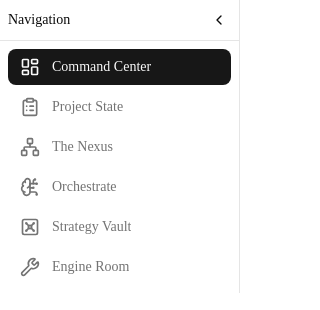
Scenario: AppSidebar › collapse behavior › should collapse when toggle button is clicked
The image size is (320, 310).
Click the button named "Collapse Sidebar": {"x": 219, "y": 20} 207,8 -> 231,32
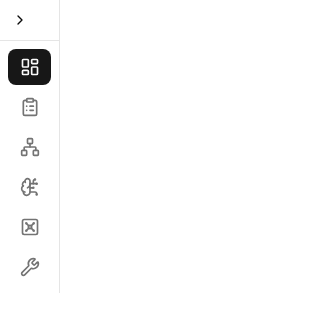
Expected: the text "Navigation" is gone
Expected: the text "Command Center" is gone
